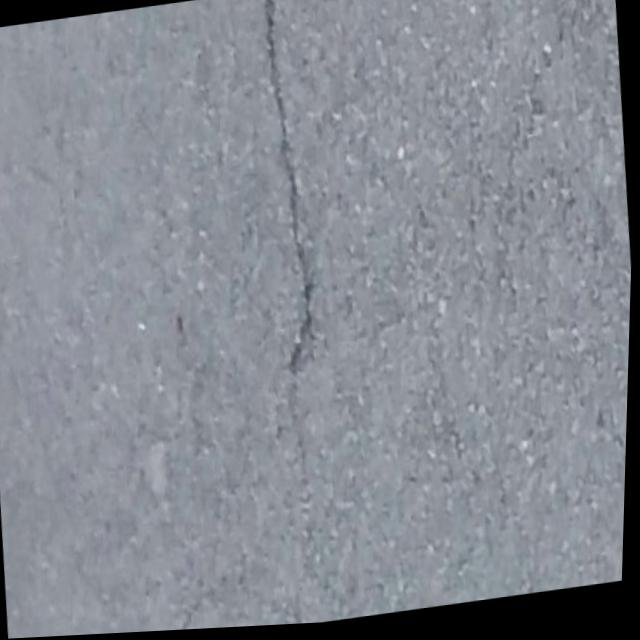Crack: (235, 0, 353, 432)
